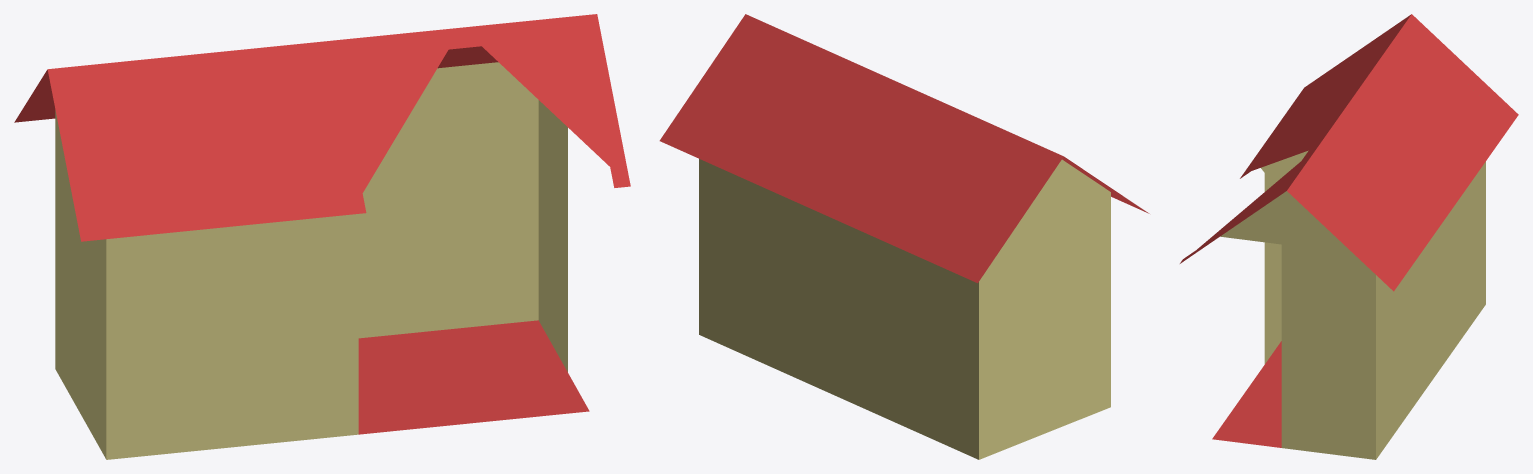
3 views of the same model, side by side, from view 1: azimuth 30°, elevation 25°; view 2: azimuth 150°, elevation 25°; view 3: azimuth 270°, elevation 25° (orthographic). The views are drawn at different scales.
Bounding box in the file's own units: 18.31 × 12.88 × 11.27.
